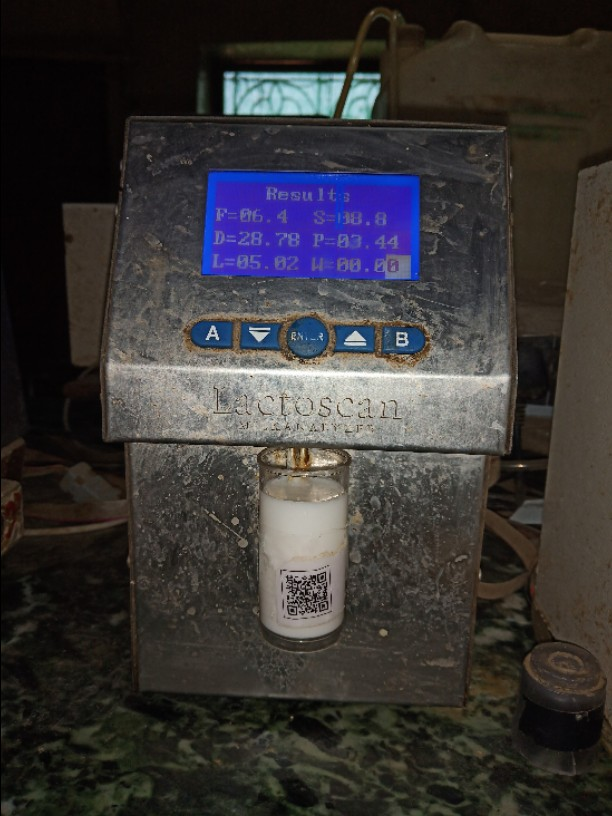lcd: (186, 162, 435, 298)
qr: (272, 568, 346, 621)
